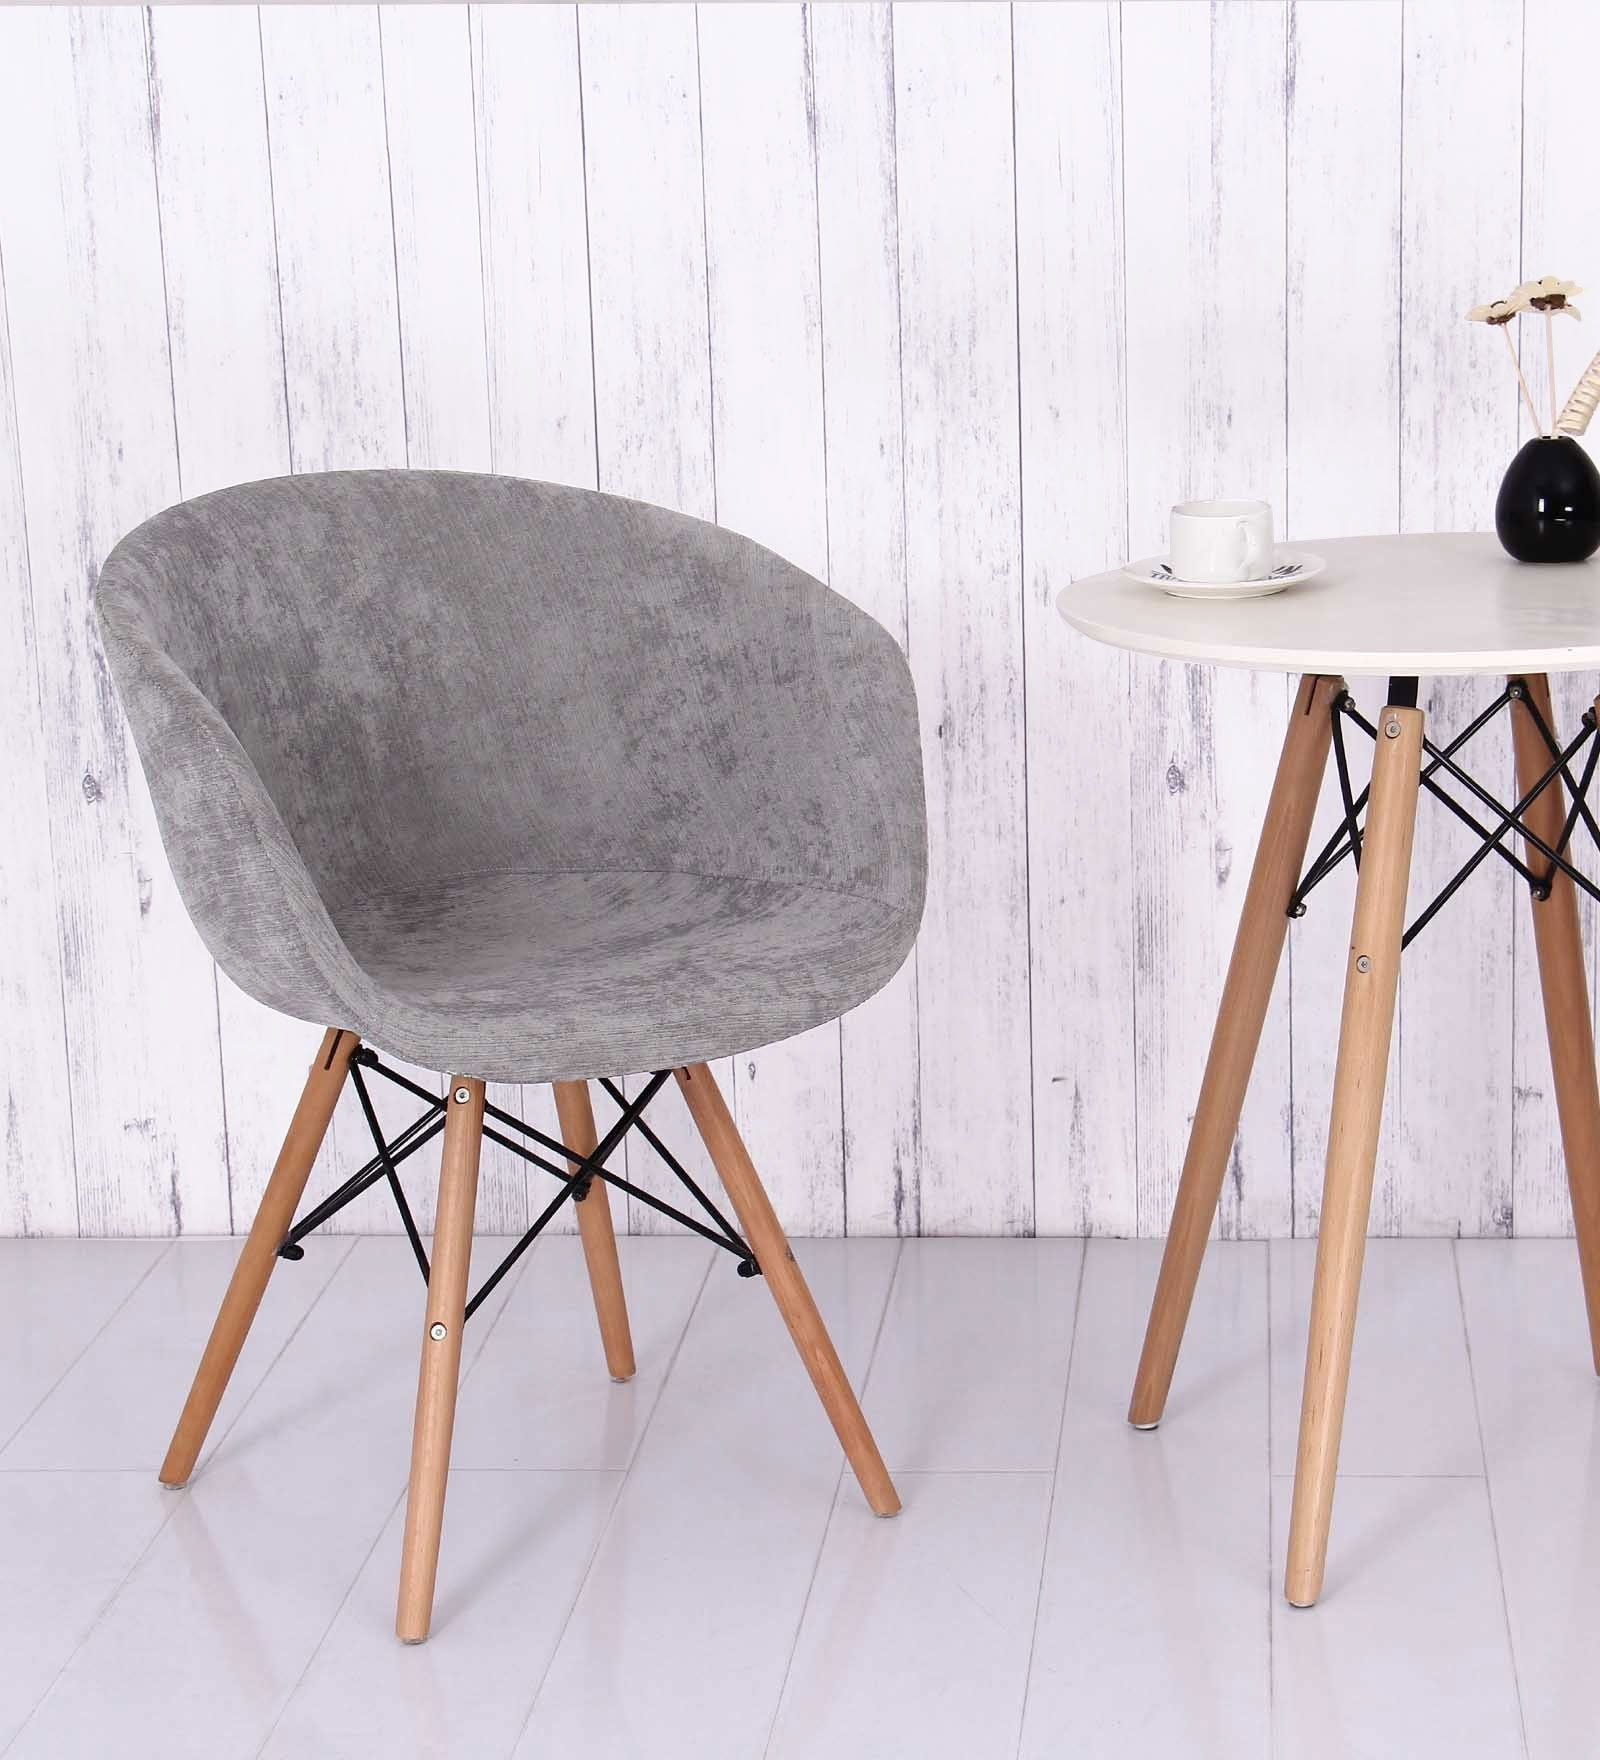Cory Fabric Chair in Light Grey Colour by Bohemiana: (74, 442, 976, 1636)
